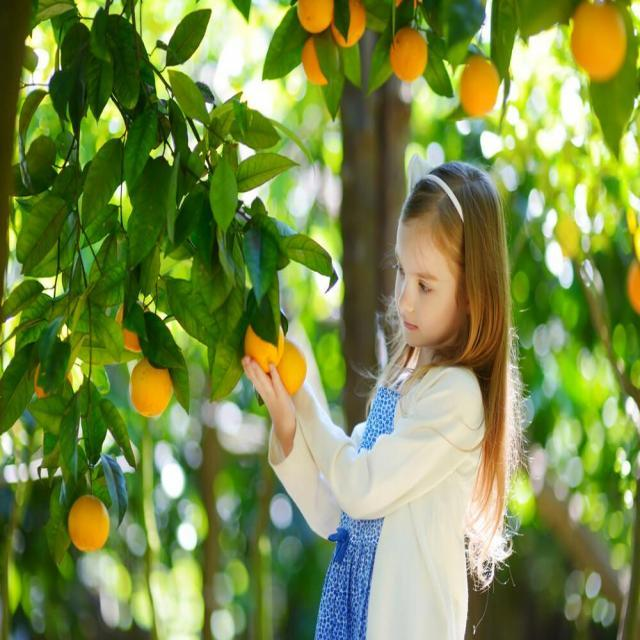Jeruk Sudah Matang: (564, 0, 632, 82), (66, 480, 116, 562), (452, 46, 506, 120), (125, 350, 177, 426), (267, 326, 315, 406), (238, 305, 288, 378), (387, 21, 431, 90), (324, 3, 370, 54), (292, 0, 344, 33)
